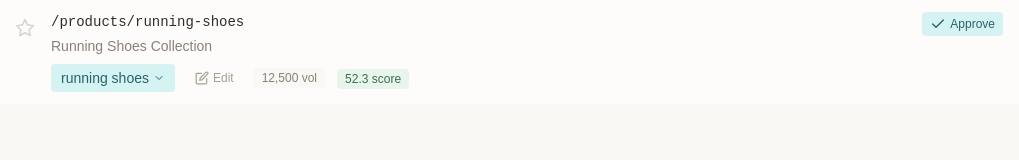
Test: KeywordPageRow › inline editing › enters edit mode when Edit button clicked
What coordinates should you click on to do the following:
click the button with aria-label "Edit keyword"
I would click on:
 (214, 78)
Its box is [187,66,242,90].
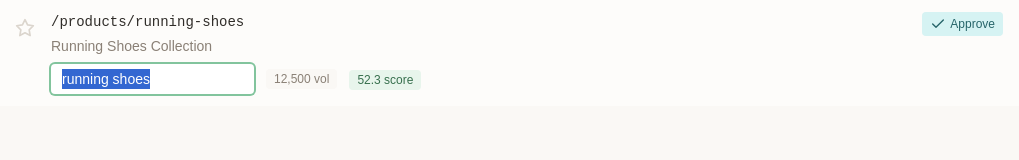
Result: the field named "Edit primary keyword" is shown at [51,64,254,94]
